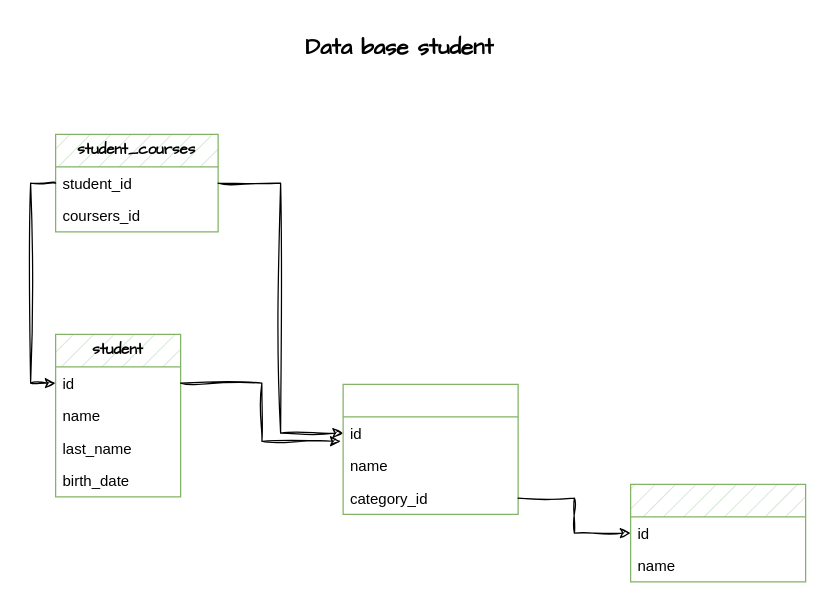
The diagram is 828 pixels wide and 606 high, and some of its shapes have lost their labels. The shapes that lost their labels are listed below. From the top down, each one's box as (x1, y1, x2, y2) in pixels, then its label:
(342, 383, 518, 514): courses
(629, 483, 806, 582): catoegory
